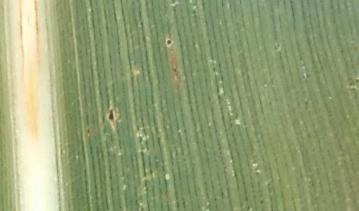tarspot: (107, 108, 115, 121), (164, 37, 173, 45)
